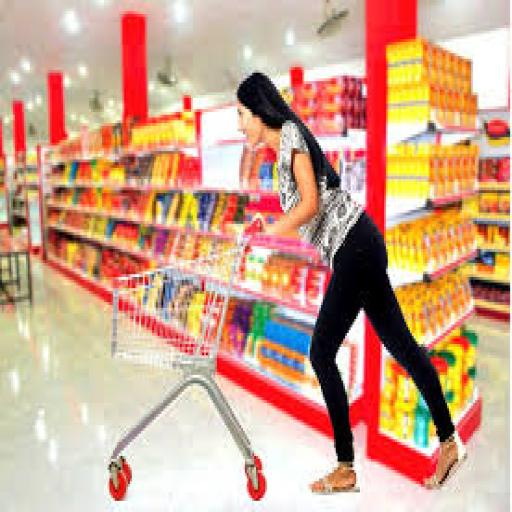shopping_cart: (106, 216, 269, 502)
